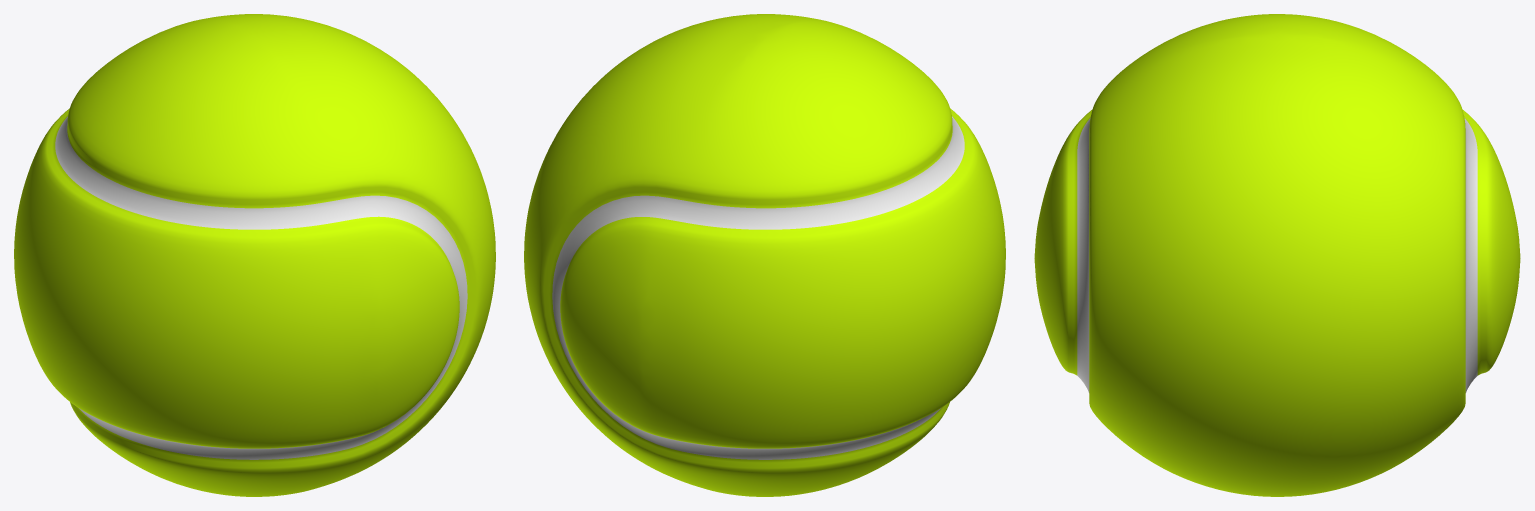
Rendered from tennis_ball.glb.
3 renders of one model, left to right at view 1: azimuth 30°, elevation 25°; view 2: azimuth 150°, elevation 25°; view 3: azimuth 270°, elevation 25°, orthographic.
Parts seen in each view (by area): view 1: Sphere.001; view 2: Sphere.001; view 3: Sphere.001.
Boxes of the visible parts, <box> form: Sphere.001: <box>14,14,495,496</box>; Sphere.001: <box>524,14,1005,496</box>; Sphere.001: <box>1034,14,1520,496</box>.
Bounding box in the file's own units: 1.97 × 1.99 × 1.99.
